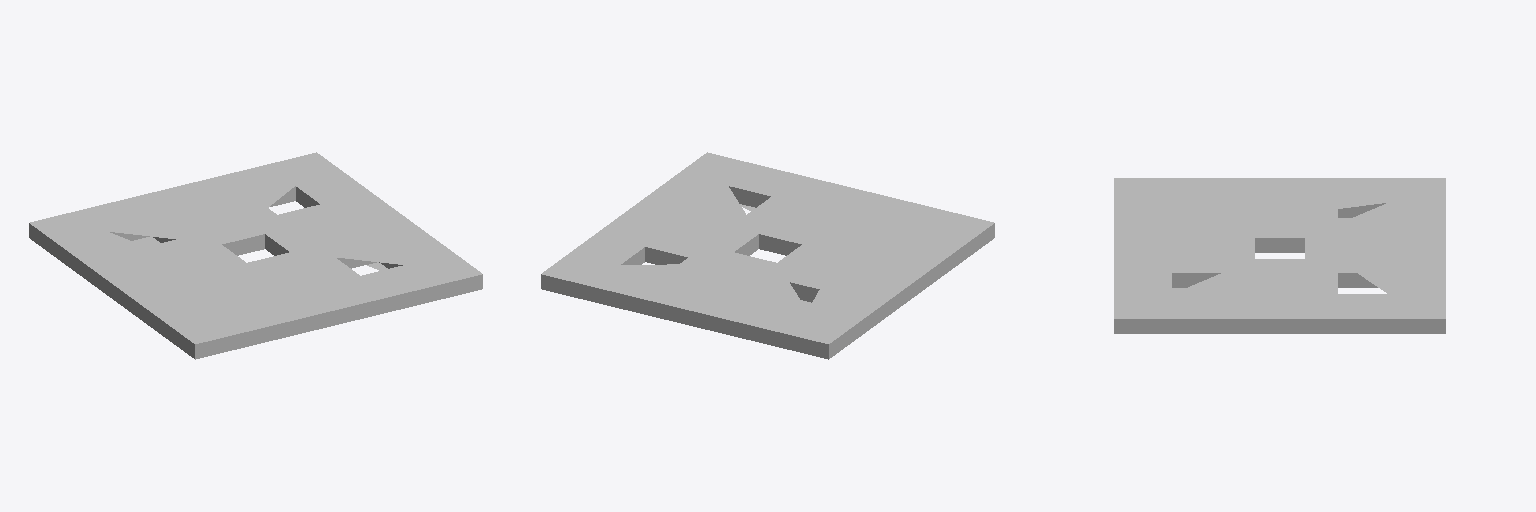
The model's file is stencil.obj.
3 views of the same model, side by side, from view 1: azimuth 30°, elevation 25°; view 2: azimuth 150°, elevation 25°; view 3: azimuth 270°, elevation 25° (orthographic).
Parts seen in each view (by area): view 1: Cube_Cube.001; view 2: Cube_Cube.001; view 3: Cube_Cube.001.
Boxes of the visible parts, <box> form: Cube_Cube.001: <box>29,152,482,359</box>; Cube_Cube.001: <box>541,152,994,359</box>; Cube_Cube.001: <box>1114,178,1445,333</box>.
Size of the model in its own units: 2 by 0.1 by 2.